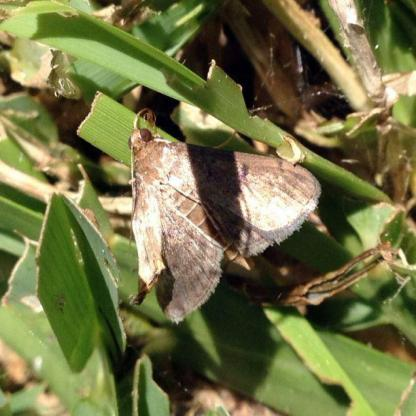armyworm: (123, 118, 319, 322)
